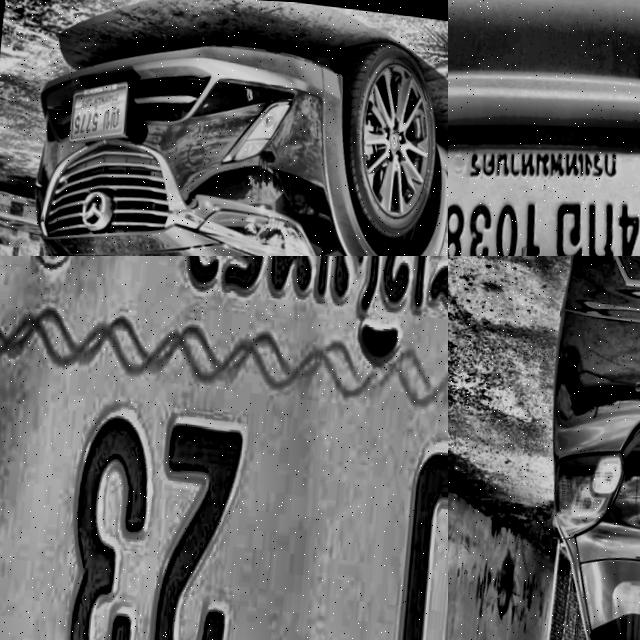license-plate: (0, 256, 448, 640), (448, 90, 640, 256), (64, 68, 130, 148)
